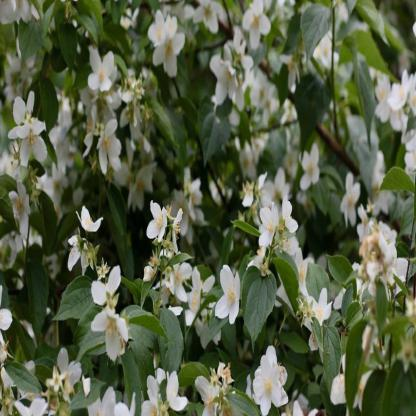Melati: (243, 176, 343, 361), (56, 186, 134, 372), (131, 199, 228, 332), (75, 53, 147, 177), (211, 3, 276, 122)
